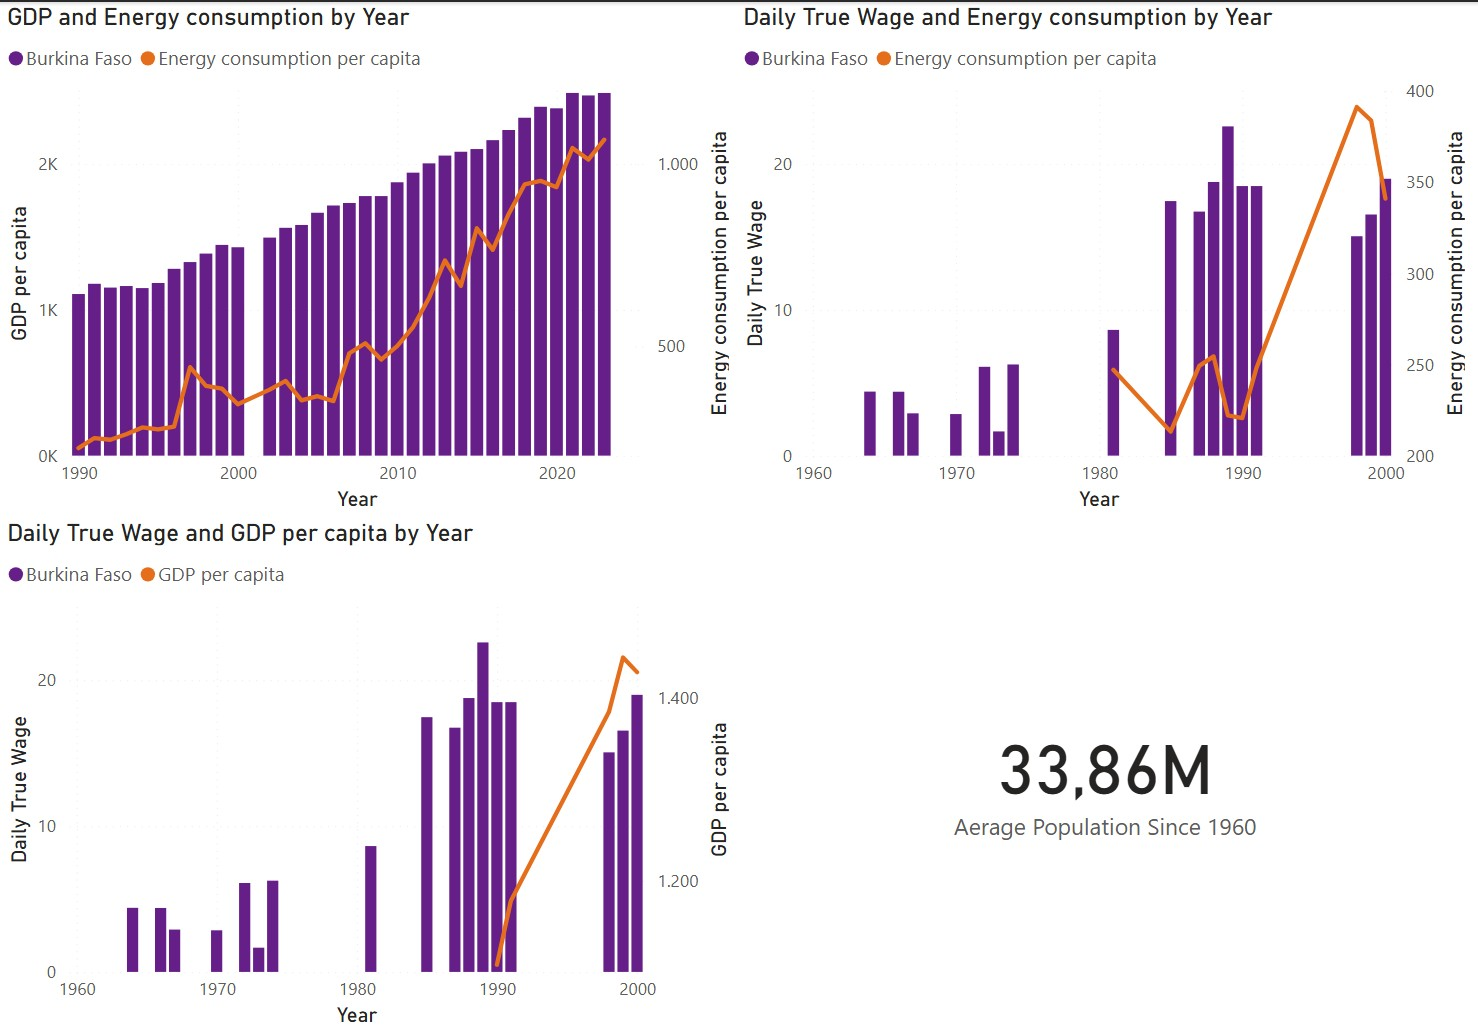

Layout of this report page (visuals, bound fields, positions):
{"tool":"powerbi","page":{"name":"Burkina faso","canvas":[1280,720],"ordinal":3},"visuals":[{"type":"lineStackedColumnComboChart","title":"GDP and Energy consumption by Year","fields":{"Category":["SUMMARY_TABLE.year"],"Series":["SUMMARY_TABLE.country"],"Y":["Sum(SUMMARY_TABLE.gdp_per_capita)"],"Y2":["Sum(SUMMARY_TABLE.per_capita_energy_consumption)"]},"box":[126.8,0,513.1,359.5],"z":0},{"type":"lineStackedColumnComboChart","title":"Daily True Wage and Energy consumption by Year","fields":{"Category":["SUMMARY_TABLE.year"],"Series":["SUMMARY_TABLE.country"],"Y":["Sum(SUMMARY_TABLE.daily_true_wage)"],"Y2":["Sum(SUMMARY_TABLE.per_capita_energy_consumption)"]},"box":[639.9,0,513.1,359.5],"z":1000},{"type":"lineStackedColumnComboChart","title":"Daily True Wage and GDP per capita by Year","fields":{"Category":["SUMMARY_TABLE.year"],"Series":["SUMMARY_TABLE.country"],"Y":["Sum(SUMMARY_TABLE.daily_true_wage)"],"Y2":["Sum(SUMMARY_TABLE.gdp_per_capita)"]},"box":[126.5,359.7,513.4,359.7],"z":2000},{"type":"card","fields":{"Values":["SUMMARY_TABLE.Avg Population Post 1959"]},"box":[640.3,359.7,513.2,359.7],"z":3000}]}

Visuals, with their boxes on the page's 1280x720 design canvas (x1, y1, x2, y2). These are canvas units, not pixel positions in the 1478x1029 screenshot, which may show the page scaled, cropped or inside an application window:
"GDP and Energy consumption by Year" lineStackedColumnComboChart: locate(127, 0, 640, 360)
"Daily True Wage and Energy consumption by Year" lineStackedColumnComboChart: locate(640, 0, 1153, 360)
"Daily True Wage and GDP per capita by Year" lineStackedColumnComboChart: locate(126, 360, 640, 719)
card - SUMMARY_TABLE.Avg Population Post 1959: locate(640, 360, 1154, 719)
